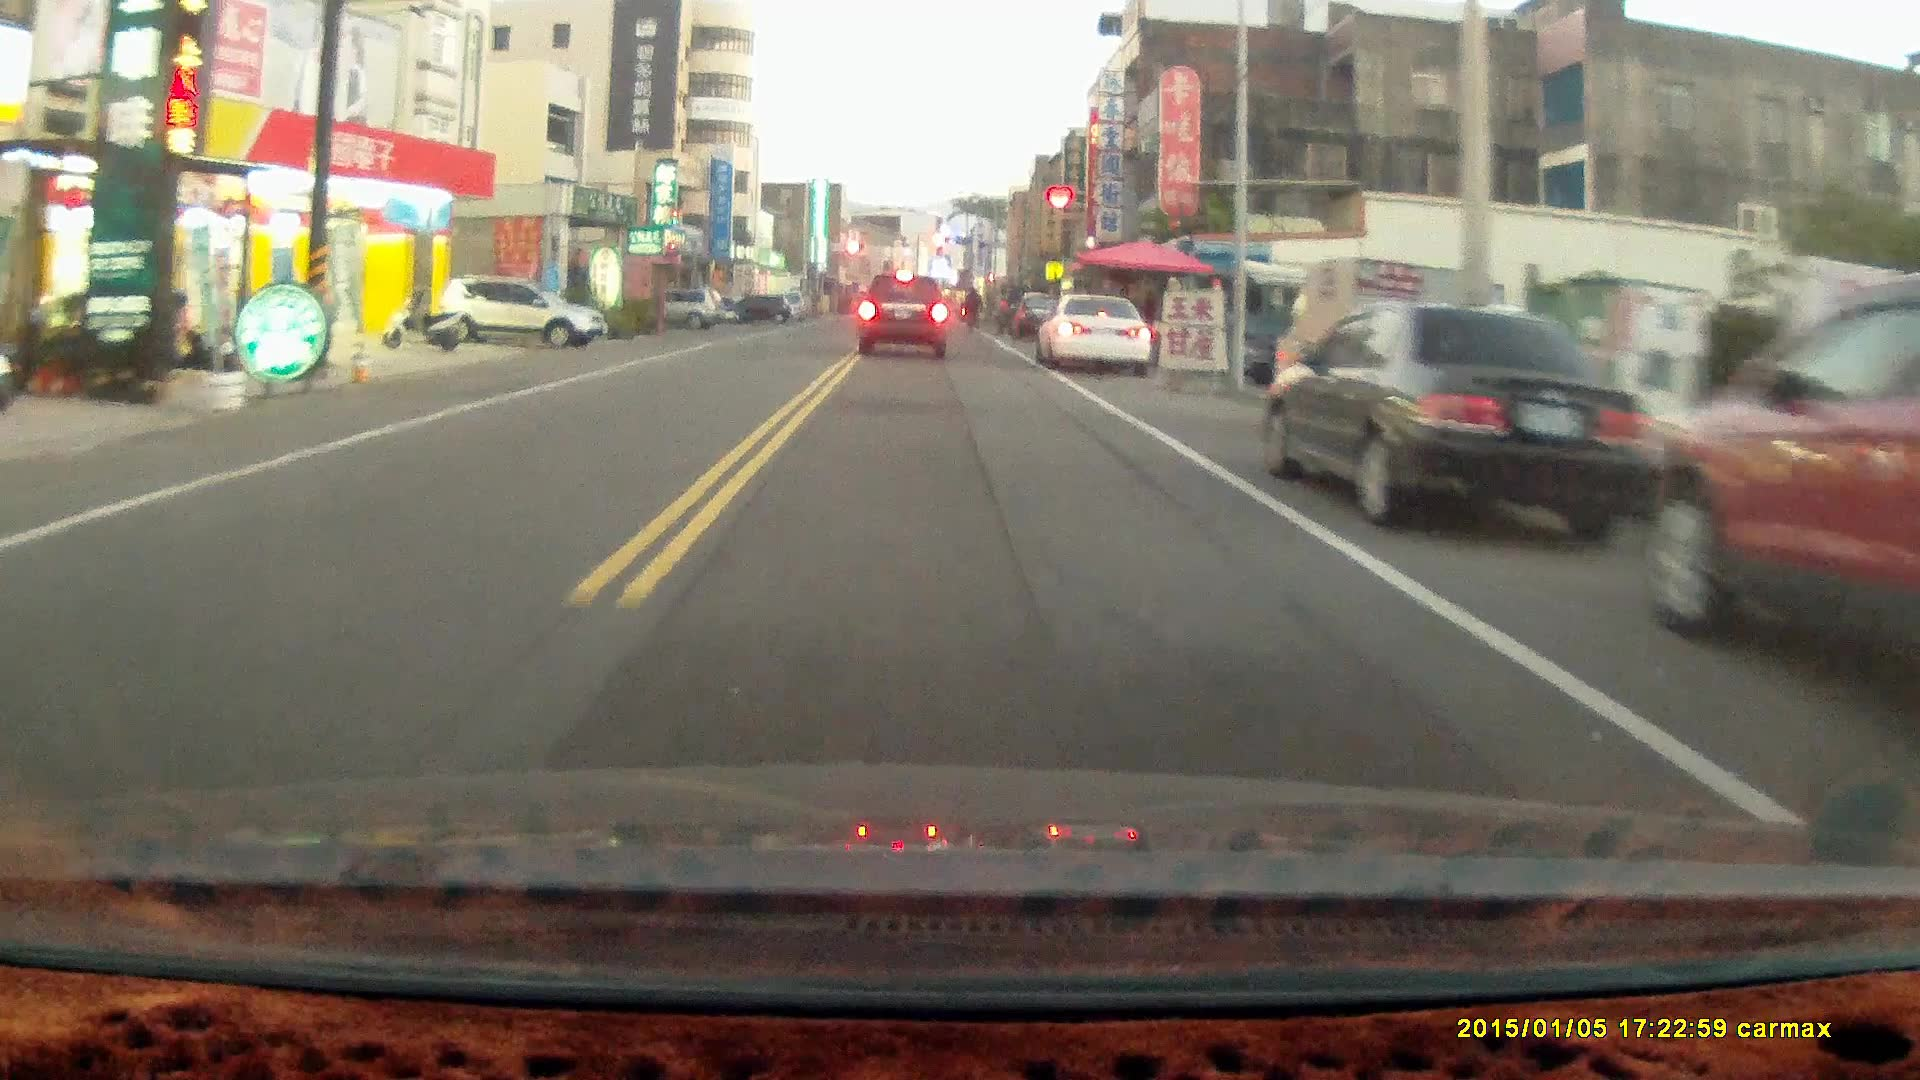vehicle: (1646, 278, 1920, 745), (1258, 303, 1662, 541), (1270, 255, 1468, 431), (438, 276, 607, 349), (1035, 299, 1156, 384), (857, 274, 949, 363)
